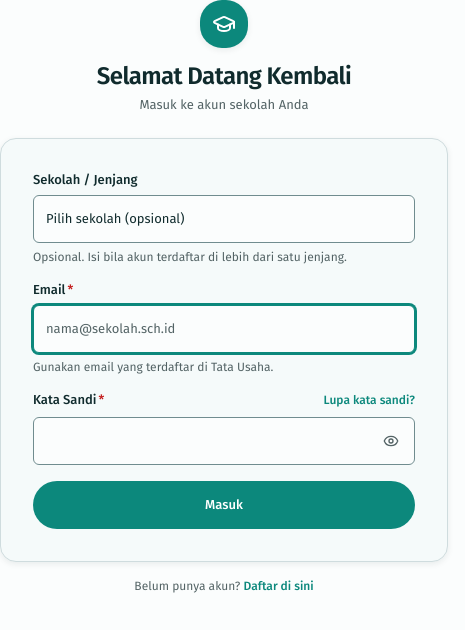
Test: SignInPage › shows validation errors for an empty submit
Click the button "Masuk" at (224, 505), box 33,481 -> 415,529
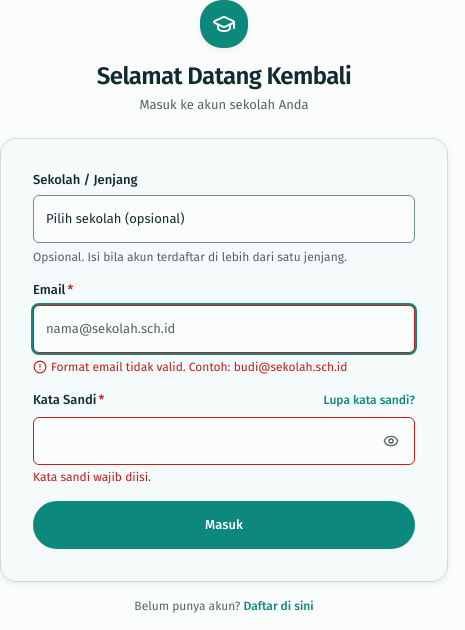
Expected: the text "Format email tidak valid. Contoh: budi@sekolah.sch.id" is shown, 33,360 -> 347,374
Expected: the text "Kata sandi wajib diisi." is shown, 33,470 -> 151,484
